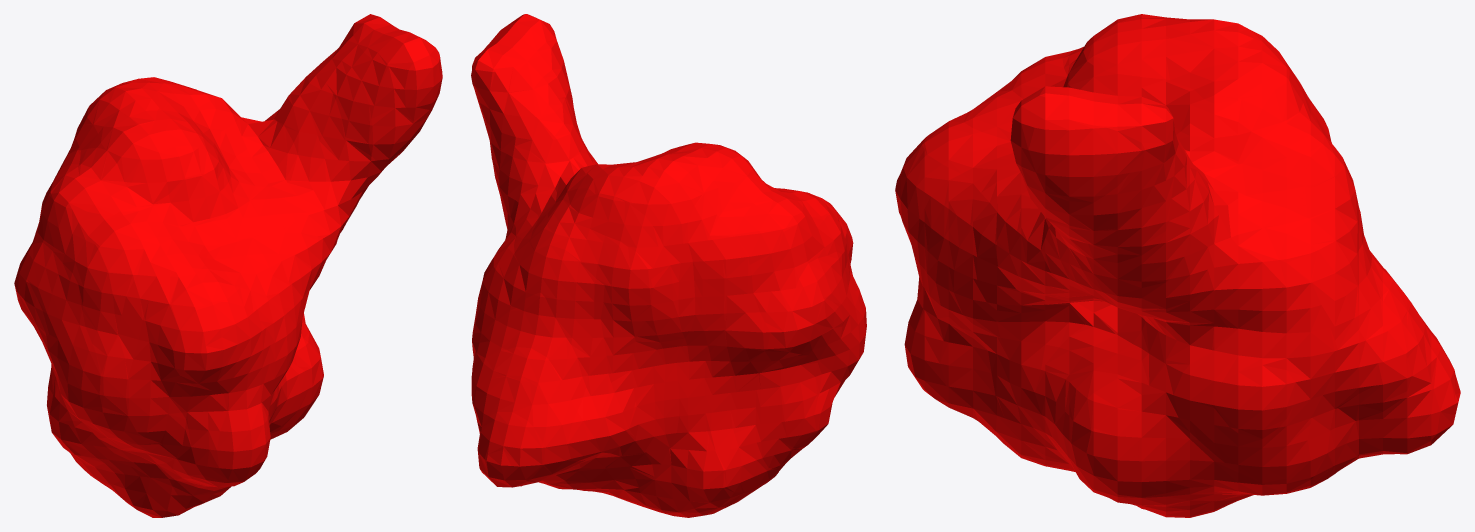
The model's file is cutC_coarse.dae.
3 views of the same model, side by side, from view 1: azimuth 30°, elevation 25°; view 2: azimuth 150°, elevation 25°; view 3: azimuth 270°, elevation 25° (orthographic). The views are drawn at different scales.
Parts seen in each view (by area): view 1: cutC; view 2: cutC; view 3: cutC.
Part boxes in pixels (x1,y1,x2,y2): cutC: (14,14,442,517); cutC: (471,14,866,517); cutC: (895,14,1460,517).
Size of the model in its own units: 50.72 by 54.65 by 53.42.
